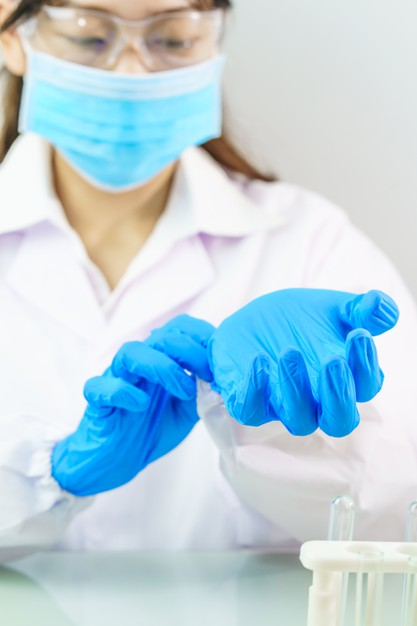Gloves: (47, 313, 214, 500), (208, 281, 403, 441)
Goggles: (26, 5, 234, 75)
with_mask: (19, 1, 225, 189)
